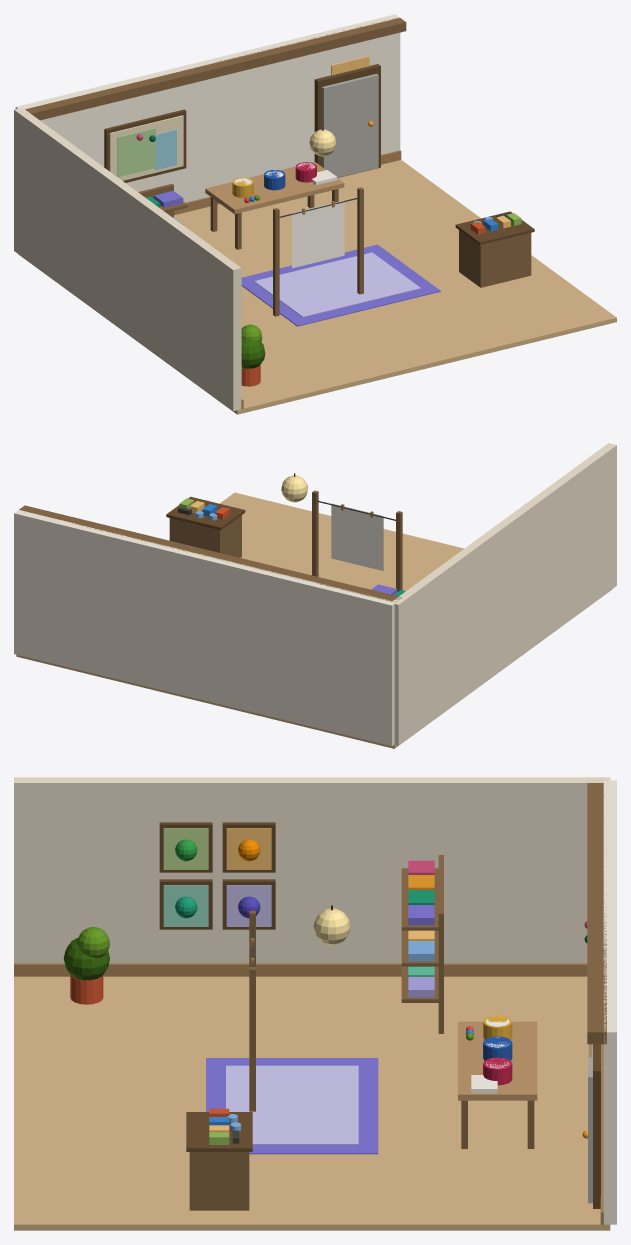
The model's file is studio.glb.
The picture shows the model from 3 angles, top to bottom: view 1: azimuth 30°, elevation 25°; view 2: azimuth 150°, elevation 25°; view 3: azimuth 270°, elevation 25°; orthographic projection. The views are drawn at different scales.
Visible parts, largest first — view 1: floor, wall_left, wall_back, beam, rug_in, door_panel, rug, cab, cloth_slot, tb_top, map_paper, map_land (+9 smaller); view 2: wall_back, wall_left, floor, cloth_slot, beam, cab, cab_top, post_b, lamp, post_a; view 3: floor, wall_left, rug_in, skirt_left, wall_back, rug, beam, tb_top, cab, cab_top, mp1, mp2 (+19 smaller).
Part boxes in pixels (x1,y1,x2,y2): floor: [18, 160, 616, 414]; wall_left: [14, 108, 241, 411]; wall_back: [15, 14, 400, 202]; beam: [25, 17, 406, 120]; rug_in: [254, 252, 420, 317]; door_panel: [322, 73, 378, 177]; rug: [241, 244, 440, 326]; cab: [459, 230, 531, 287]; cloth_slot: [292, 200, 344, 268]; tb_top: [205, 161, 344, 214]; map_paper: [109, 115, 183, 180]; map_land: [117, 128, 155, 176]; wall_back: [14, 510, 395, 746]; wall_left: [391, 443, 616, 745]; floor: [16, 492, 612, 748]; cloth_slot: [331, 503, 383, 570]; beam: [19, 505, 401, 602]; cab: [169, 515, 241, 557]; cab_top: [166, 496, 245, 530]; post_b: [312, 490, 318, 576]; lamp: [281, 475, 307, 502]; post_a: [396, 511, 402, 591]; floor: [14, 976, 610, 1230]; wall_left: [14, 777, 610, 963]; rug_in: [226, 1065, 358, 1144]; skirt_left: [14, 963, 587, 976]; wall_back: [603, 780, 616, 1224]; rug: [206, 1058, 378, 1154]; beam: [587, 780, 606, 1044]; tb_top: [458, 1021, 537, 1100]; cab: [189, 1152, 249, 1210]; cab_top: [186, 1112, 252, 1151]; mp1: [226, 828, 271, 869]; mp2: [163, 885, 208, 926].
Bounding box in the file's own units: 9.1 × 3.45 × 9.1.
